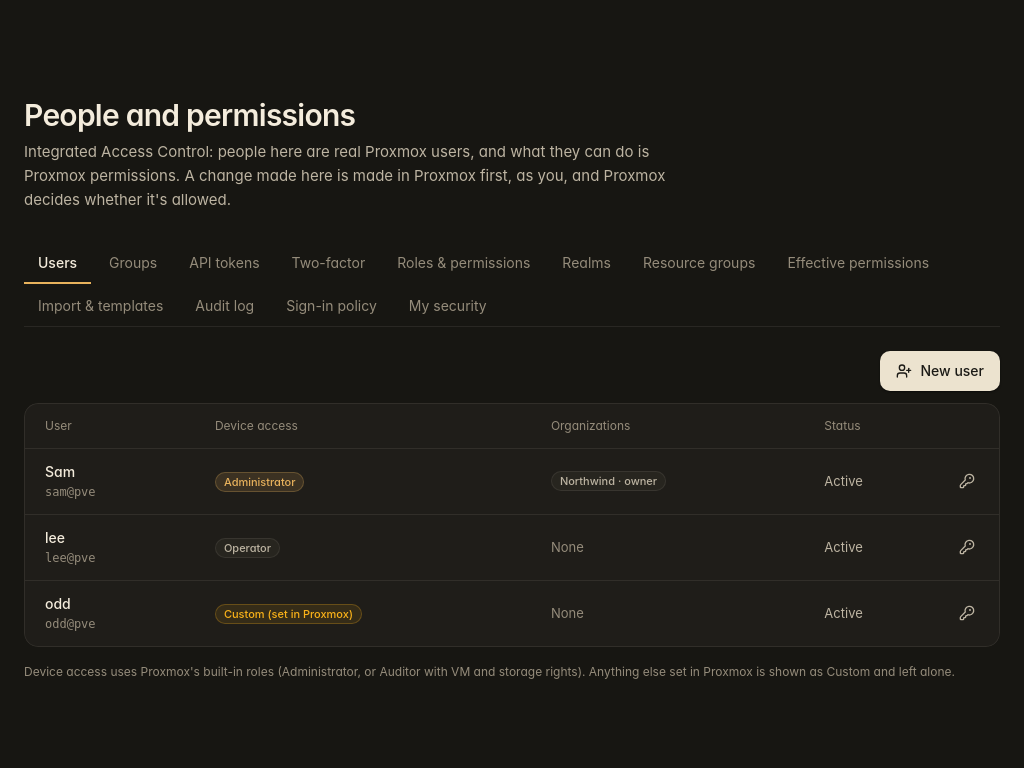
Test: the live access screen › saves changes to an existing user, keeping a custom device role untouched
The width and height of the screenshot is (1024, 768).
Later steps or results of the test are not shown.
Click the text "odd@pve": x=70, y=624 [45,614,96,632]
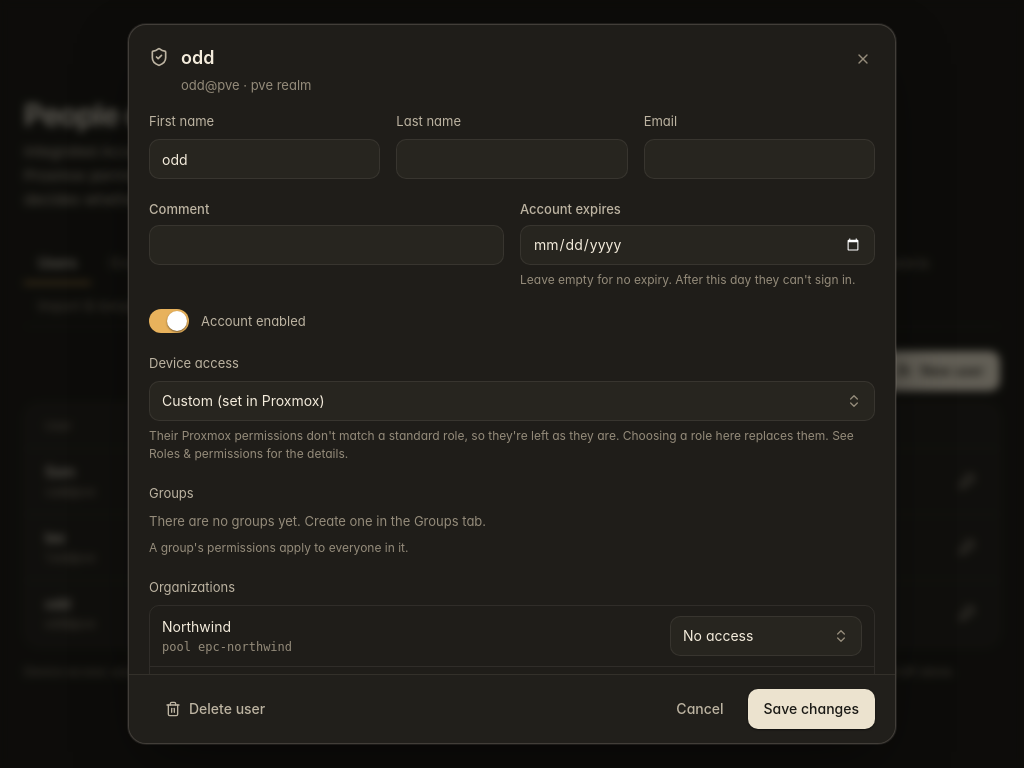
Expected: the button "Save changes" is shown, [748,689,875,729]
